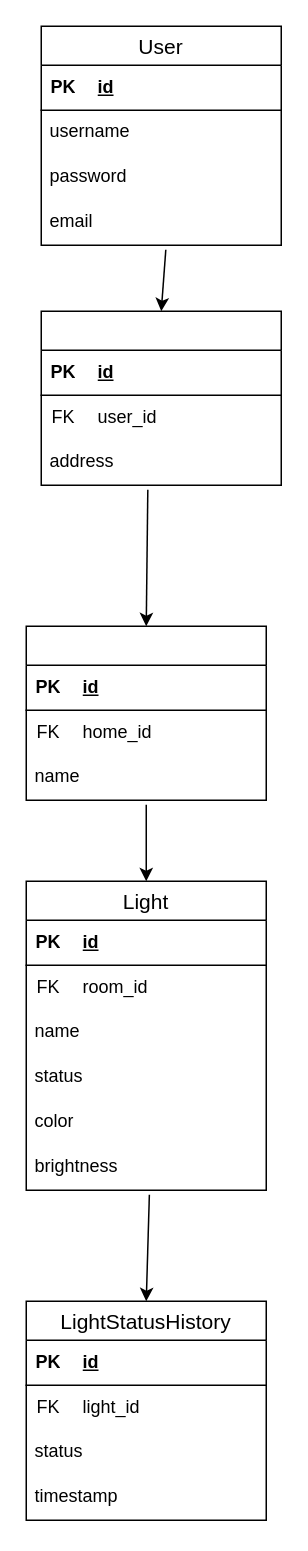
This 308x1551 diagram has some shape labels left out. Each missing label, with the box of its shape:
Home: (40, 310, 281, 485)
Room: (25, 625, 266, 800)
